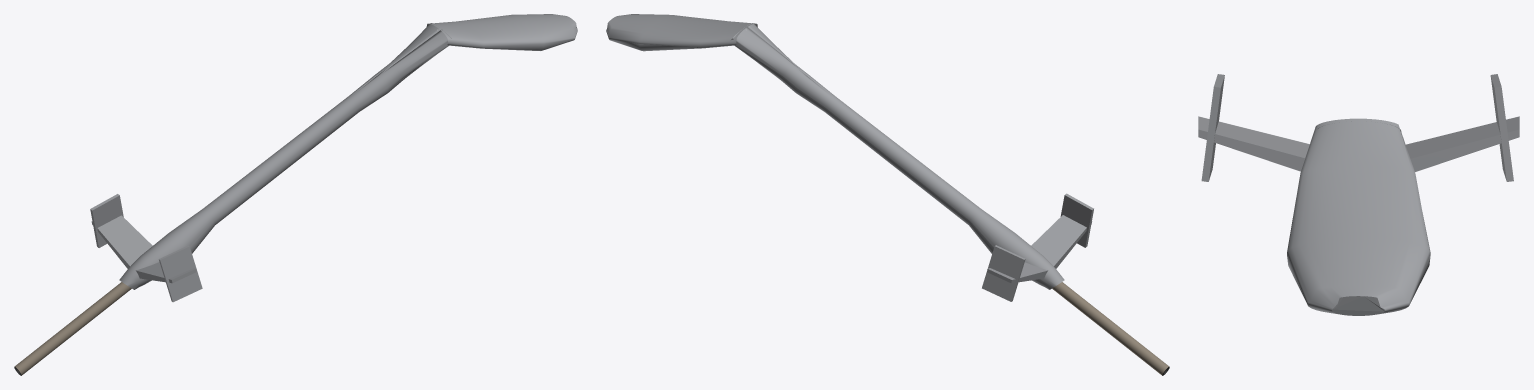
3 views of the same model, side by side, from view 1: azimuth 30°, elevation 25°; view 2: azimuth 150°, elevation 25°; view 3: azimuth 270°, elevation 25° (orthographic). The views are drawn at different scales.
Parts seen in each view (by area): view 1: 立方体.001, boom.002, innerBoom.002; view 2: 立方体.001, boom.002, innerBoom.002; view 3: boom.002, 立方体.001.
Part boxes in pixels (x1=…): 立方体.001: x1=90, y1=23, x2=451, y2=302; boom.002: x1=426, y1=14, x2=577, y2=50; innerBoom.002: x1=14, y1=282, x2=131, y2=375; 立方体.001: x1=731, y1=23, x2=1093, y2=301; boom.002: x1=606, y1=14, x2=757, y2=51; innerBoom.002: x1=1052, y1=282, x2=1169, y2=375; boom.002: x1=1287, y1=118, x2=1430, y2=315; 立方体.001: x1=1198, y1=74, x2=1519, y2=181.
Bounding box in the file's own units: 14.97 × 6.32 × 3.74.
